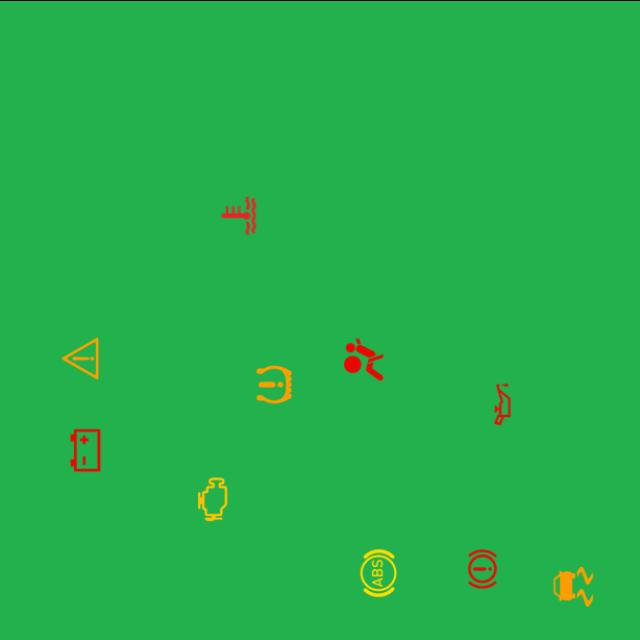Anti Lock Braking System: (352, 546, 404, 598)
Braking System Issue: (456, 542, 508, 594)
Charging System Issue: (60, 424, 112, 476)
Check Engine: (186, 472, 238, 524)
Electronic Stability Problem -ESP-: (548, 560, 600, 612)
Engine Overheating Warning Light: (212, 188, 264, 240)
Low Engine Oil Warning Light: (476, 378, 528, 430)
Low Tire Pressure Warning Light: (248, 358, 300, 410)
Master warning light: (55, 332, 106, 384)
SRS-Airbag: (338, 332, 390, 384)
